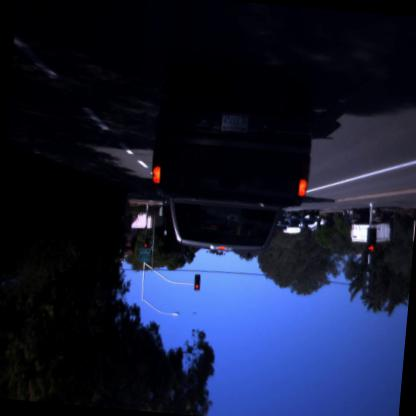trafficlight: (364, 225, 380, 255), (142, 228, 151, 252), (192, 274, 202, 294)
